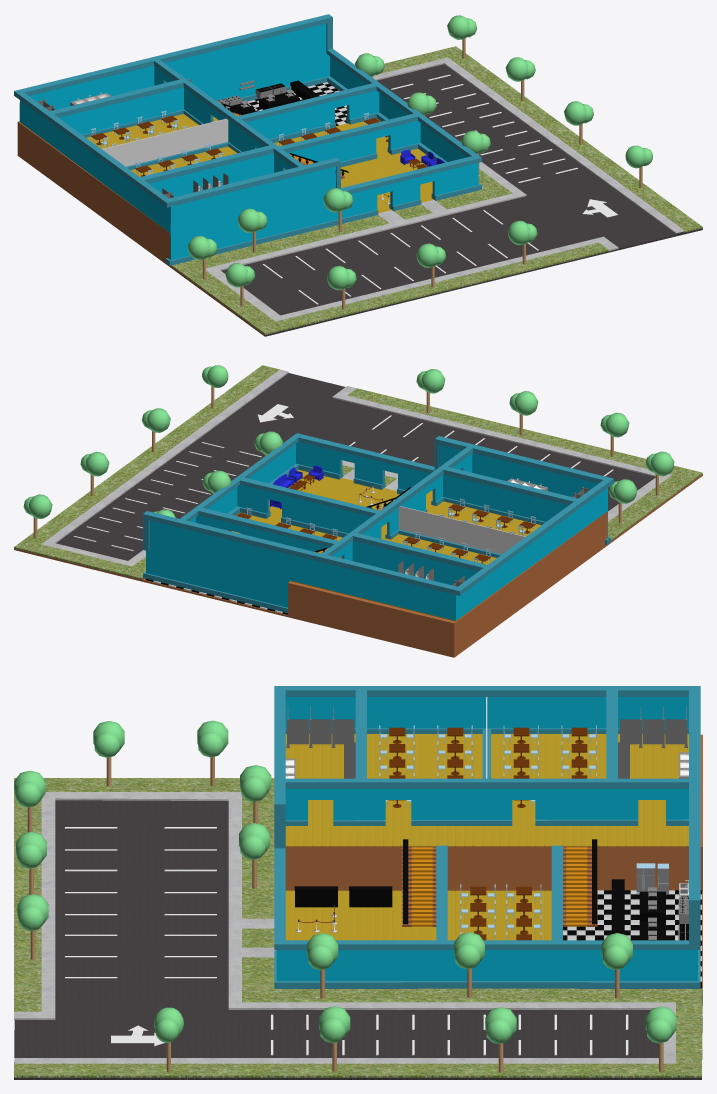
The model's file is Restaurant.fbx.
3 renders of one model, top to bottom at view 1: azimuth 30°, elevation 25°; view 2: azimuth 150°, elevation 25°; view 3: azimuth 270°, elevation 25°, orthographic. The views are drawn at different scales.
Parts seen in each view (by area): view 1: Main Walls, Ground, Grass, Trees, Boundary, Floor, Markings, Tables, Chairs, Kitchen Tables, Floor.001; view 2: Main Walls, Ground, Grass, Trees, Boundary, Floor, Markings, Tables, Chairs, Sofas; view 3: Ground, Main Walls, Floor, Grass, Boundary, Trees, Stairs, Bathroom gates, Tables, Markings, Floor.001, Chairs (+3 smaller).
Part boxes in pixels (x1,y1,x2,y2): Main Walls: [14, 14, 481, 265]; Ground: [17, 64, 702, 336]; Grass: [171, 46, 702, 334]; Trees: [187, 15, 652, 309]; Boundary: [206, 57, 684, 321]; Floor: [21, 114, 433, 213]; Markings: [262, 74, 617, 304]; Tables: [91, 116, 427, 176]; Chairs: [91, 110, 387, 175]; Kitchen Tables: [227, 80, 319, 115]; Floor.001: [248, 82, 347, 125]; Main Walls: [143, 433, 613, 620]; Ground: [14, 373, 702, 657]; Grass: [14, 365, 702, 579]; Trees: [23, 365, 674, 538]; Boundary: [41, 369, 671, 566]; Floor: [231, 469, 541, 621]; Markings: [74, 404, 613, 550]; Tables: [228, 474, 535, 563]; Chairs: [231, 498, 535, 562]; Sofas: [269, 465, 323, 509]; Ground: [14, 734, 702, 1079]; Main Walls: [274, 686, 700, 988]; Floor: [285, 734, 688, 940]; Grass: [14, 778, 702, 1077]; Boundary: [14, 792, 675, 1063]; Trees: [14, 720, 676, 1072]; Stairs: [402, 839, 597, 926]; Bathroom gates: [286, 706, 687, 778]; Tables: [389, 727, 587, 940]; Markings: [64, 827, 628, 1055]; Floor.001: [563, 890, 701, 988]; Chairs: [379, 725, 596, 940].
Bounding box in the file's own units: 22671 × 3268 × 21658.
Materials: 33 (4 with a texture image).
